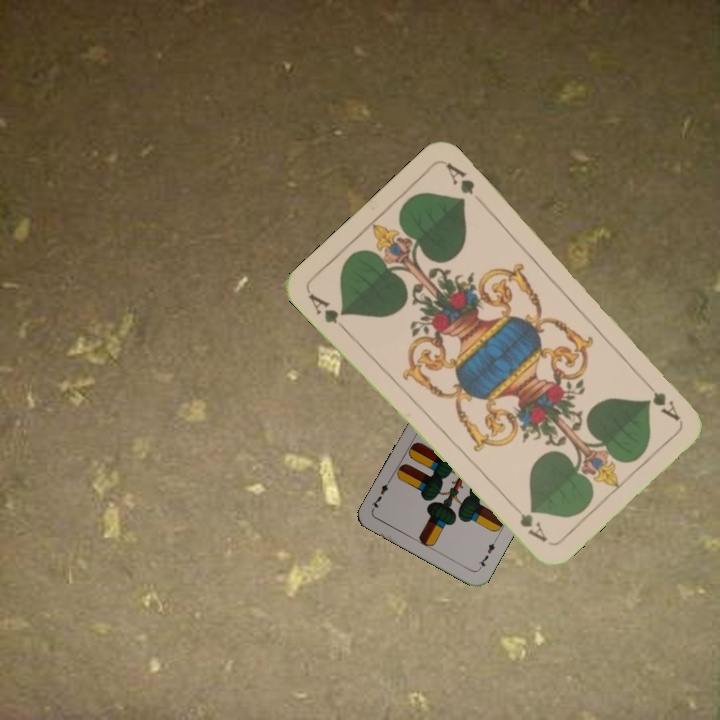E7: (474, 535, 499, 572)
GA: (638, 374, 683, 423), (304, 289, 350, 334)
